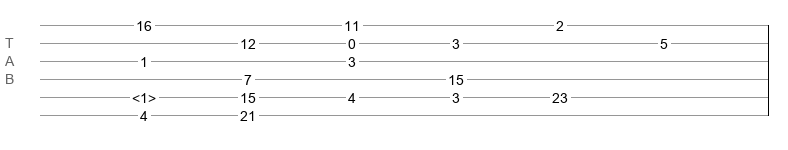0: (348, 36, 356, 46)
1: (140, 54, 148, 64)
11: (344, 18, 360, 28)
12: (240, 36, 256, 46)
15: (240, 90, 256, 100), (448, 72, 464, 82)
16: (136, 18, 152, 28)
2: (556, 18, 564, 28)
21: (240, 108, 256, 118)
23: (552, 90, 568, 100)
3: (348, 54, 356, 64), (452, 90, 460, 100), (452, 36, 460, 46)
4: (140, 108, 148, 118), (348, 90, 356, 100)
5: (660, 36, 668, 46)
7: (244, 72, 252, 82)
harmonic: (132, 90, 156, 100)
